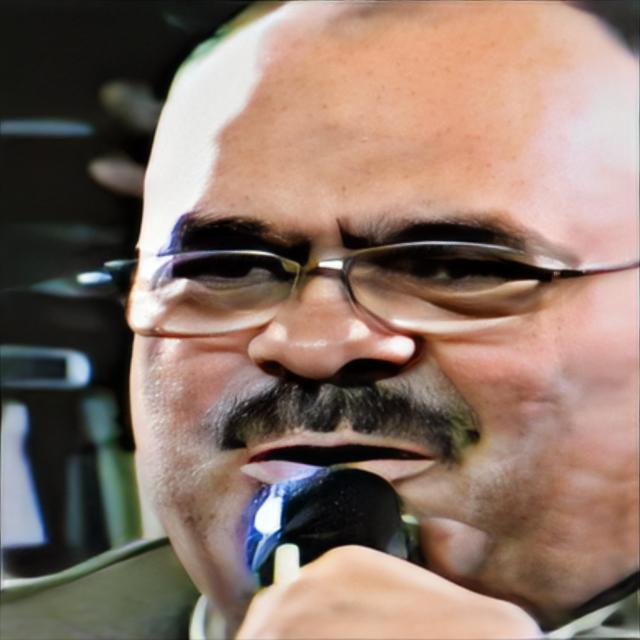anger: (152, 30, 600, 583)
